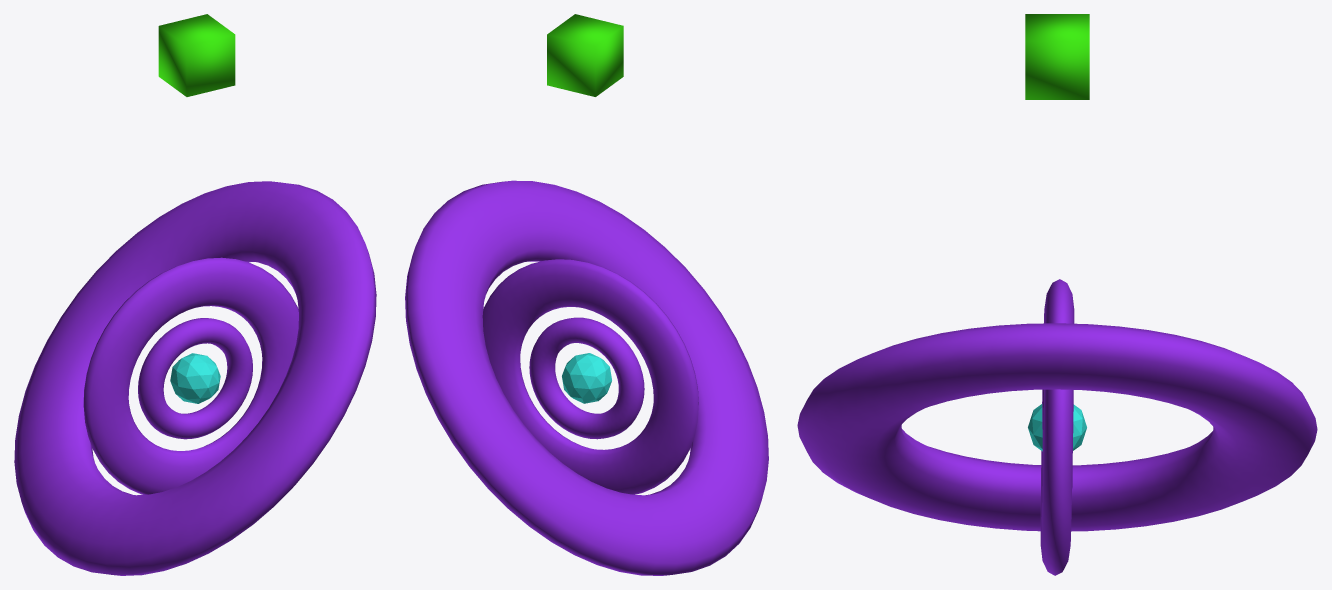
File: Portal.glb
3 views of the same model, side by side, from view 1: azimuth 30°, elevation 25°; view 2: azimuth 150°, elevation 25°; view 3: azimuth 270°, elevation 25° (orthographic). The views are drawn at different scales.
Visible parts, largest first — view 1: Torus.002, Torus.003, Torus, Cube, Icosphere; view 2: Torus.002, Torus.003, Torus, Cube, Icosphere; view 3: Torus.002, Torus.003, Cube, Icosphere.
Part boxes in pixels (x1=…): Torus.002: x1=14, y1=181, x2=376, y2=575; Torus.003: x1=83, y1=257, x2=298, y2=494; Torus: x1=138, y1=318, x2=252, y2=439; Cube: x1=158, y1=14, x2=235, y2=96; Icosphere: x1=170, y1=353, x2=220, y2=403; Torus.002: x1=405, y1=180, x2=768, y2=575; Torus.003: x1=482, y1=259, x2=698, y2=494; Torus: x1=529, y1=317, x2=644, y2=439; Cube: x1=547, y1=14, x2=623, y2=96; Icosphere: x1=562, y1=353, x2=611, y2=403; Torus.002: x1=797, y1=323, x2=1317, y2=531; Torus.003: x1=1040, y1=279, x2=1074, y2=575; Cube: x1=1025, y1=14, x2=1089, y2=99; Icosphere: x1=1028, y1=404, x2=1086, y2=451.
Bounding box in the file's own units: 6.37 × 10.63 × 8.75.
